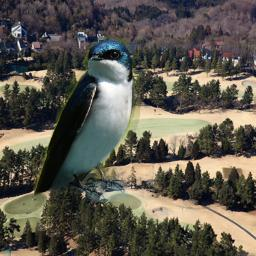Swallow: (34, 37, 140, 202)
